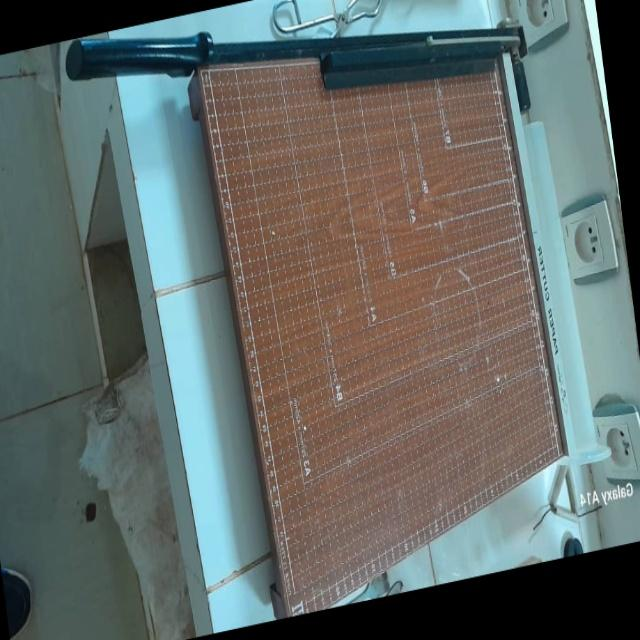TLC Cutter: (48, 0, 596, 640)
